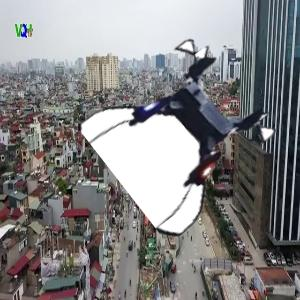drone: (103, 49, 269, 215)
